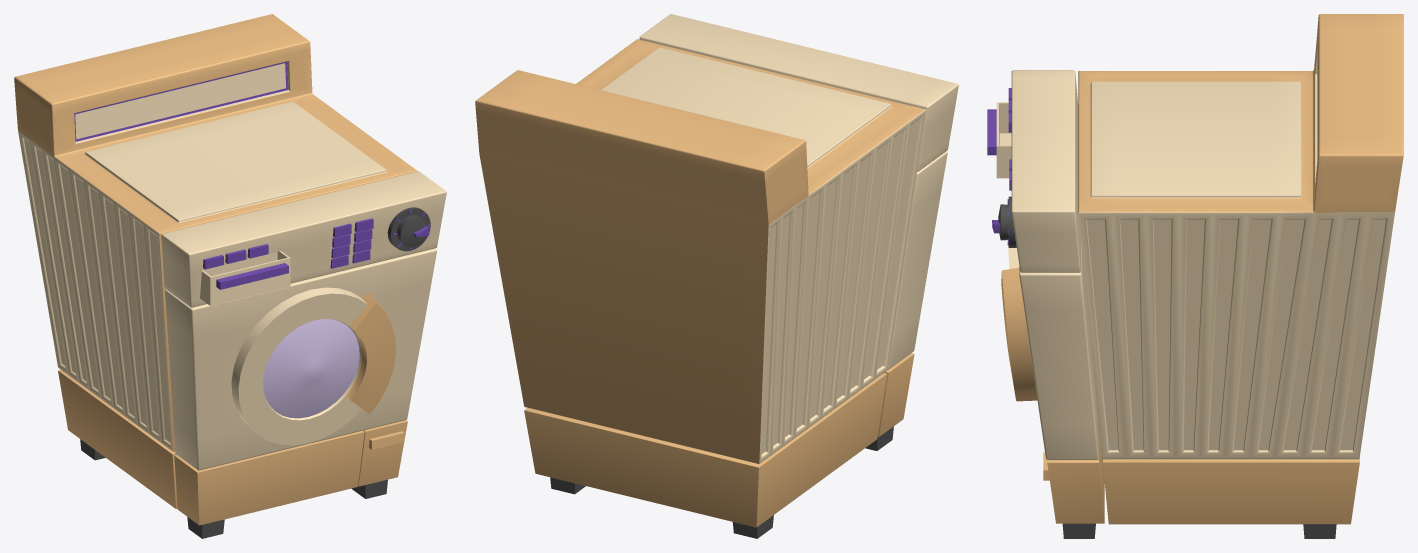
The model's file is Lavadora.fbx.
The picture shows the model from 3 angles, left to right: view 1: azimuth 30°, elevation 25°; view 2: azimuth 150°, elevation 25°; view 3: azimuth 270°, elevation 25°; orthographic projection. The views are drawn at different scales.
Parts seen in each view (by area): view 1: Lavadora, Puerta; view 2: Lavadora; view 3: Lavadora, Puerta.
Boxes of the visible parts, x1,y1,x2,y2 form: Lavadora: (14,14,446,538); Puerta: (231,287,395,445); Lavadora: (475,14,958,538); Lavadora: (987,14,1403,538); Puerta: (1001,245,1037,401).
Bounding box in the file's own units: 102 × 136 × 127.
